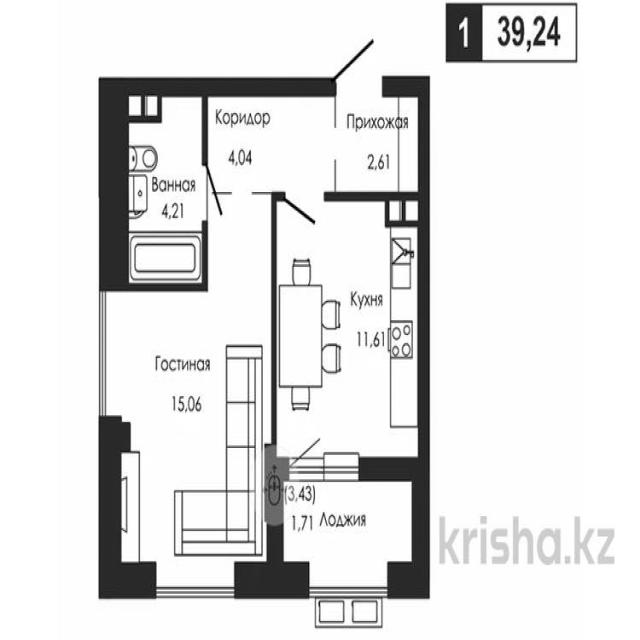balcony: (277, 478, 424, 580)
bathroom: (116, 87, 205, 286)
hallway: (203, 85, 334, 200), (337, 85, 423, 196)
kitchen: (276, 202, 425, 472)
living_room: (98, 288, 272, 570)
